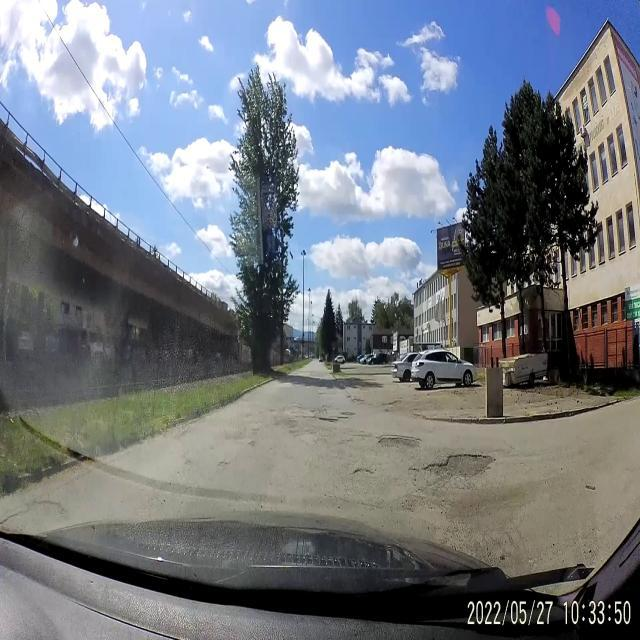Pothole: (422, 452, 496, 480), (374, 431, 422, 453), (317, 408, 363, 425), (348, 458, 374, 481), (375, 396, 408, 414), (344, 391, 367, 406), (216, 457, 232, 473), (404, 466, 422, 478)
